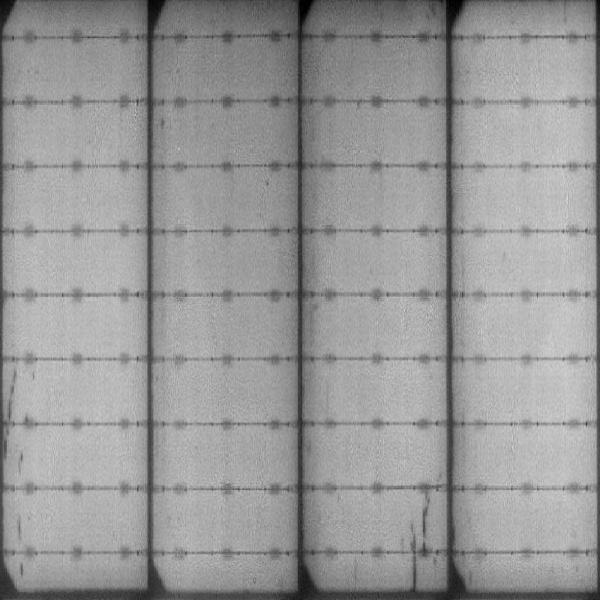scratch: (1, 428, 28, 478), (1, 362, 19, 423), (420, 496, 435, 552), (409, 510, 418, 584)
